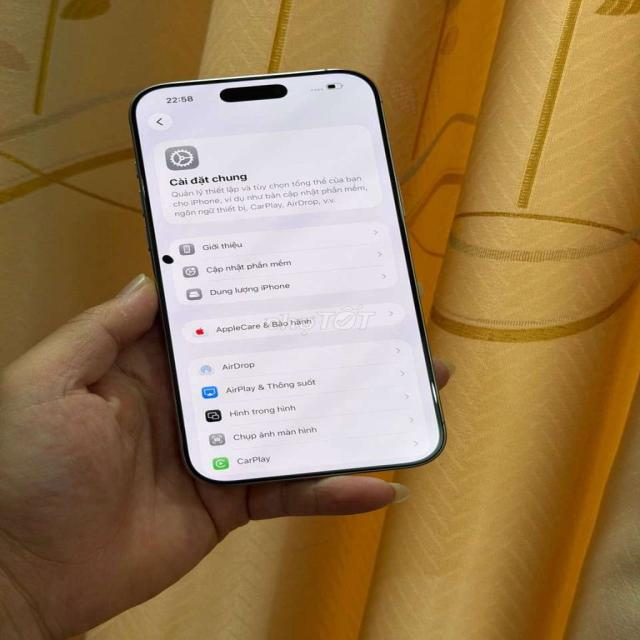gen_16: (131, 70, 442, 484)
